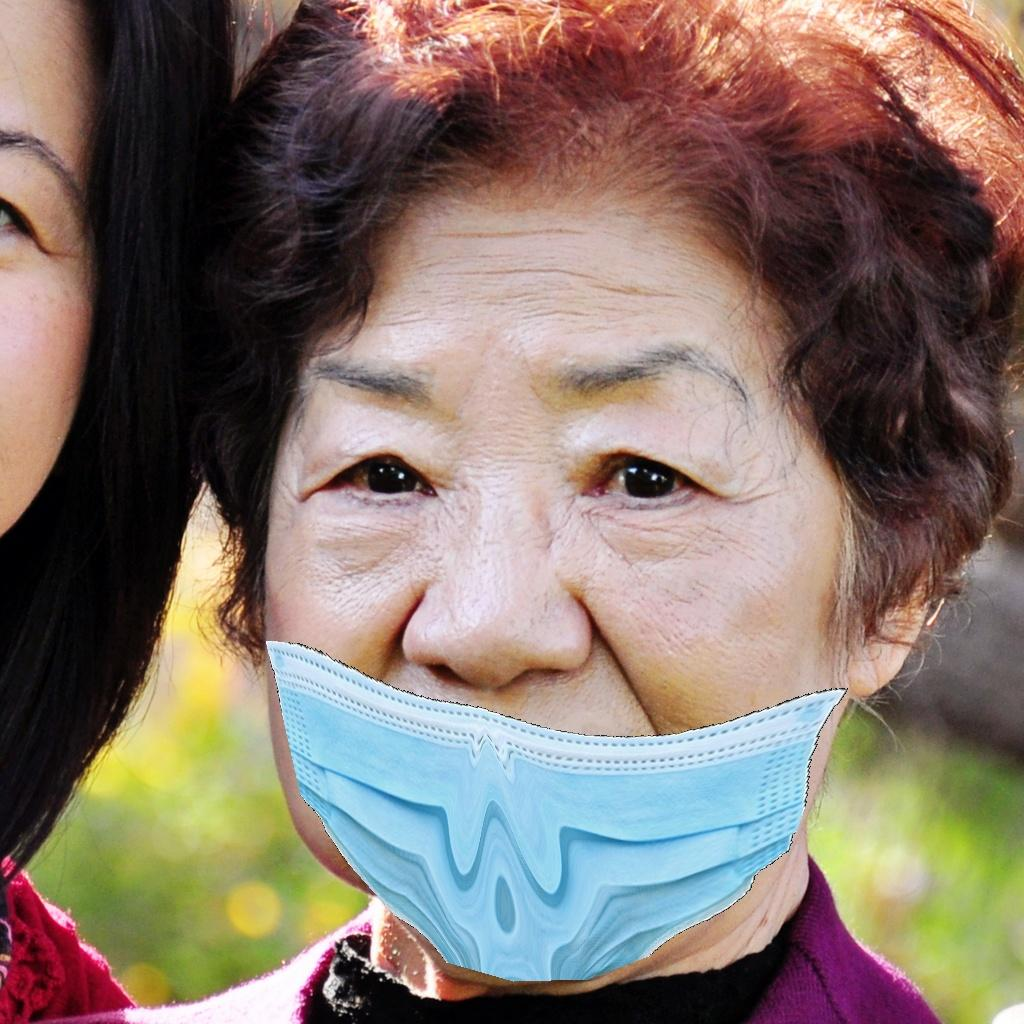Máscara Incorreta: (250, 273, 838, 946)
